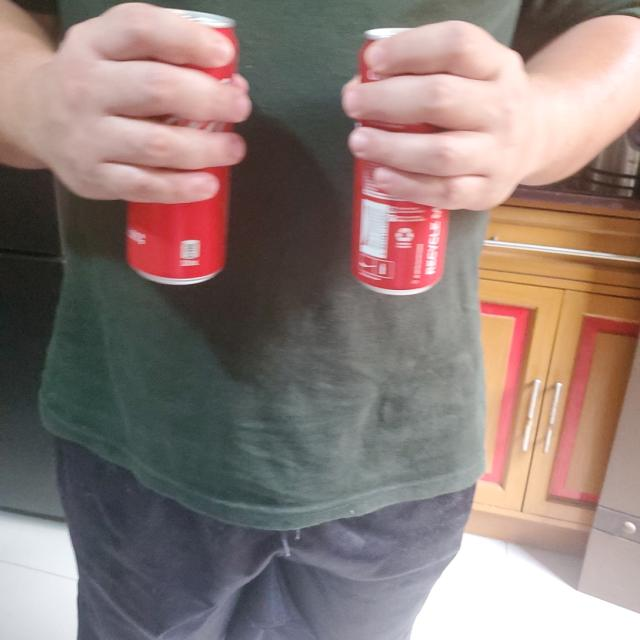coke: (123, 13, 235, 282), (351, 26, 445, 292)
